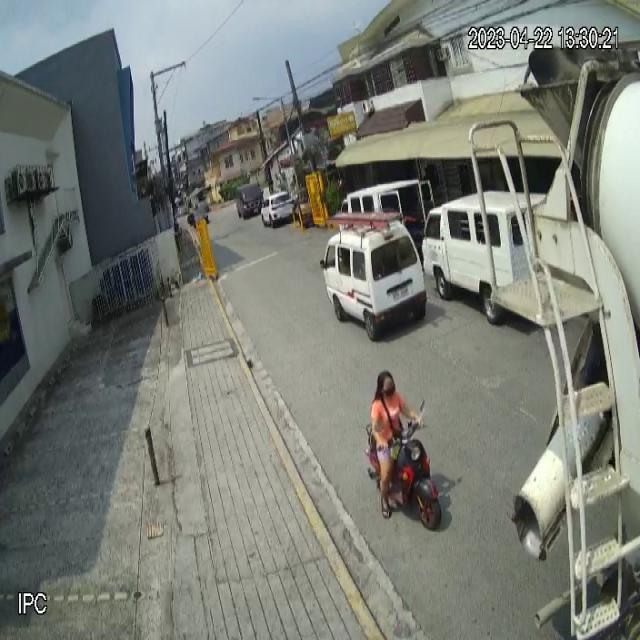Van: (422, 188, 521, 324), (320, 224, 428, 341)
